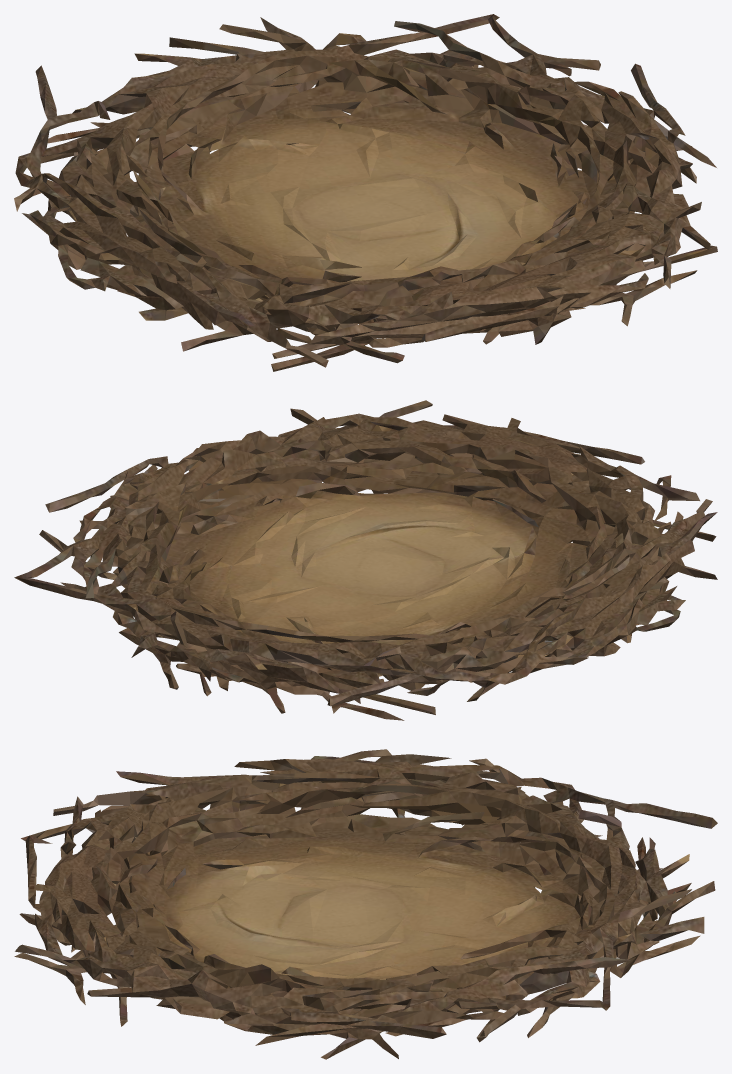
The model's file is nest.glb.
The picture shows the model from 3 angles, top to bottom: view 1: azimuth 30°, elevation 25°; view 2: azimuth 150°, elevation 25°; view 3: azimuth 270°, elevation 25°; orthographic projection. The views are drawn at different scales.
Visible parts, largest first — view 1: tmppe8mizy2.ply; view 2: tmppe8mizy2.ply; view 3: tmppe8mizy2.ply.
Boxes of the visible parts, x1=… form: tmppe8mizy2.ply: x1=14, y1=14, x2=717, y2=371; tmppe8mizy2.ply: x1=14, y1=400, x2=717, y2=720; tmppe8mizy2.ply: x1=14, y1=749, x2=717, y2=1059.
Size of the model in its own units: 1.95 by 0.1808 by 1.99.
1 material, 1 textured.
